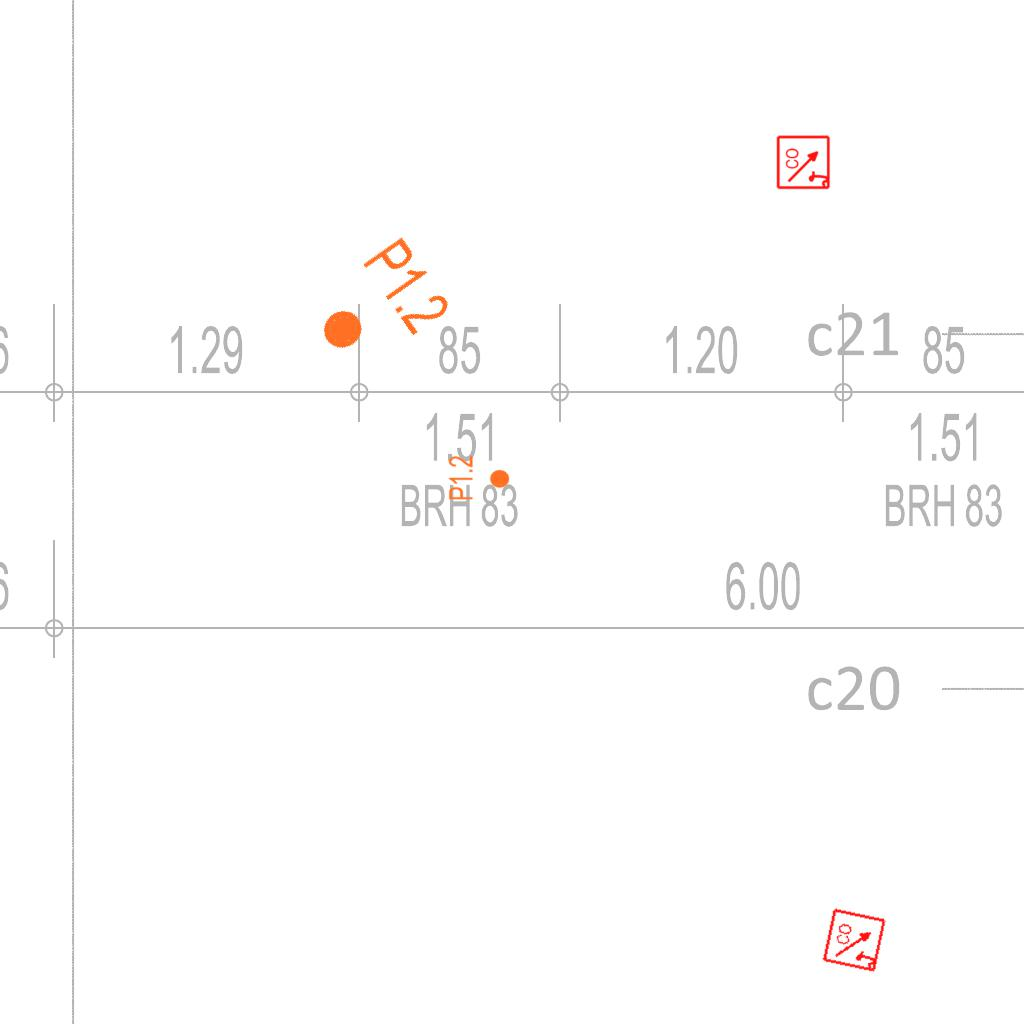Downlight_LED_Einbauleuchten_Flur: (298, 232, 457, 382), (447, 455, 511, 501)
ROA_Rauchmelder_optisch_mit_Signalgeber_(Sockelsirene): (821, 906, 889, 974), (776, 134, 832, 190)
